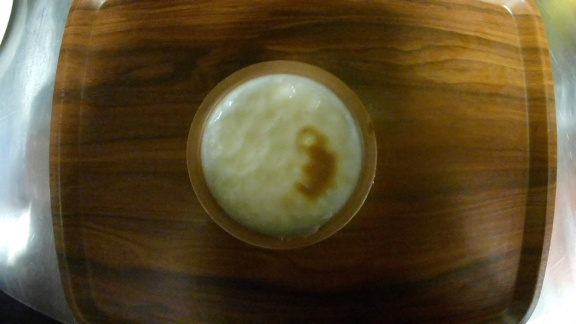sutlac: (186, 59, 378, 252)
